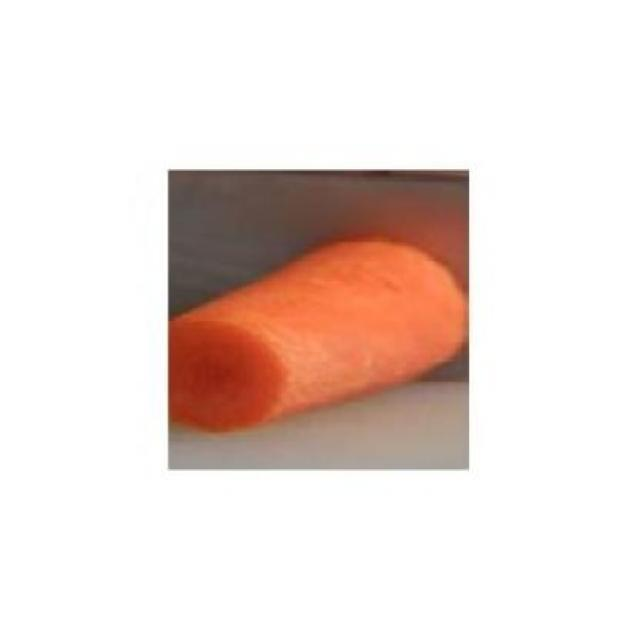carrot: (167, 226, 466, 439)
